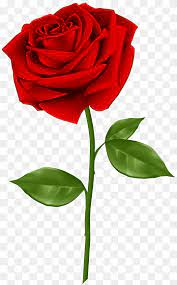lale: (4, 0, 177, 285)
